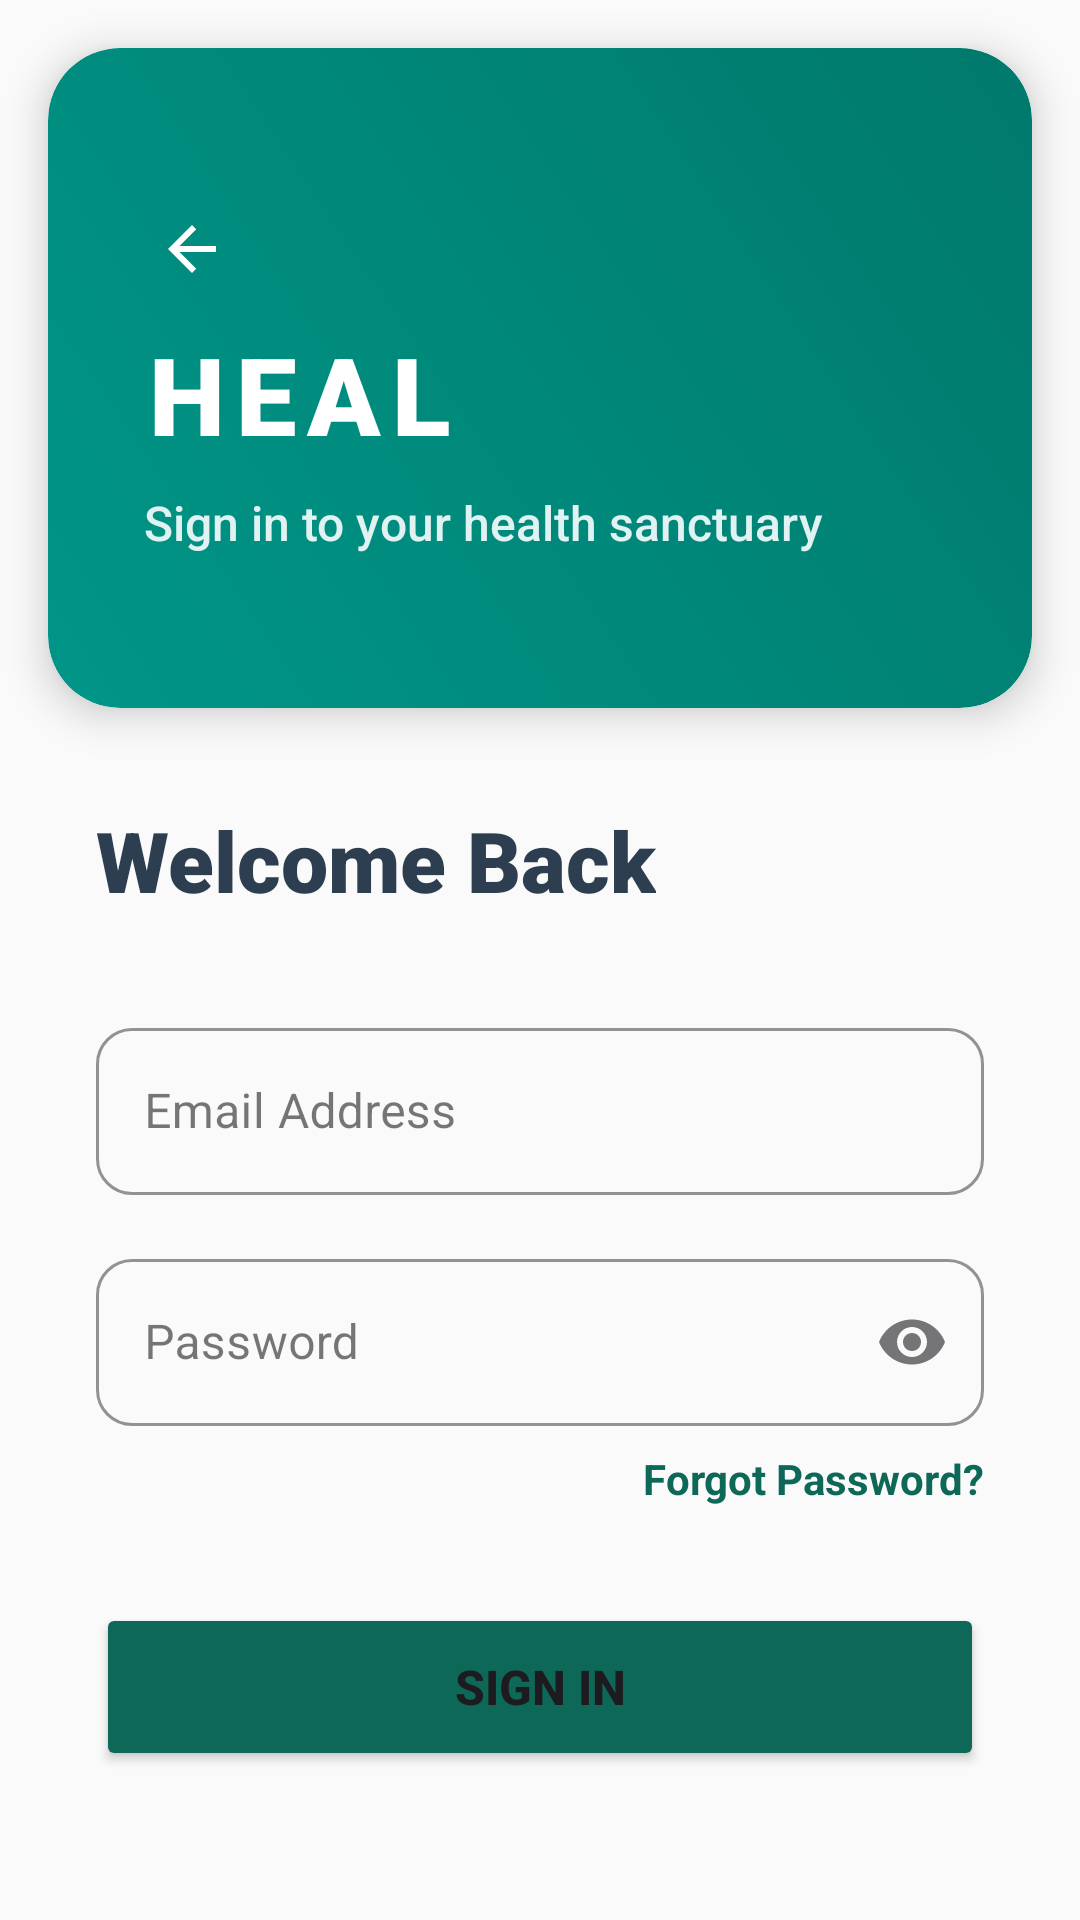

Where to tap for icons on this 1080px×1920px app screen, as point (x, y):
back: point (192, 249)
